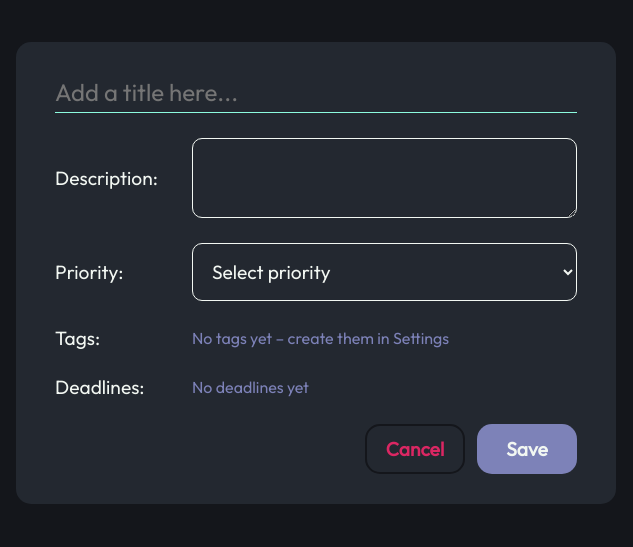
Scenario: MutateTaskForm › shows validation errors and does not save
The image size is (633, 547).
What coordinates should you click on to do the following:
click the button "Save"
I would click on:
 (527, 449)
Its box is [477, 424, 577, 474].
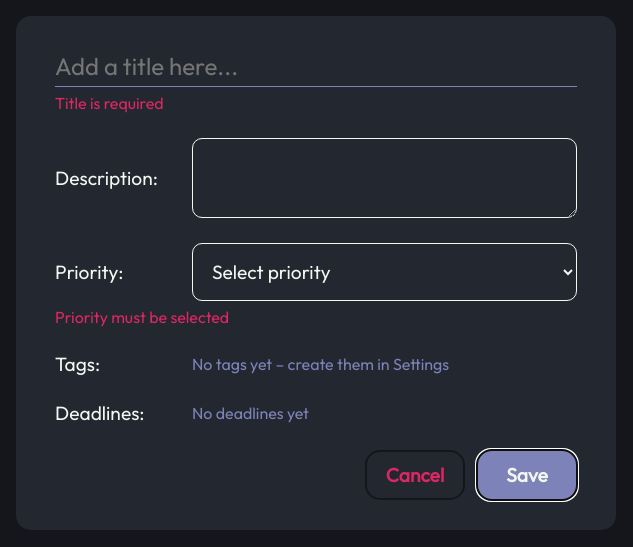
Now the text "Title is required" is shown, box [55, 93, 164, 113]
Now the text "Priority must be selected" is shown, box [55, 307, 229, 327]
